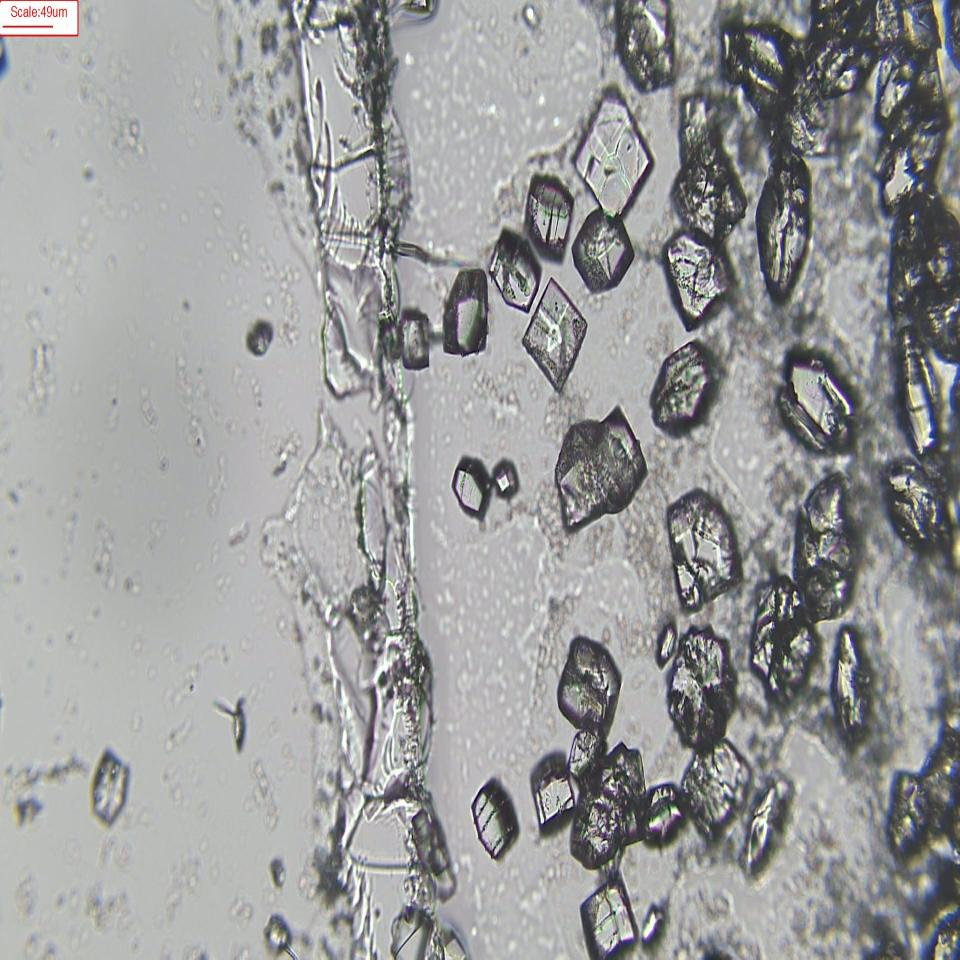crystal: (790, 476, 861, 624), (574, 91, 655, 220), (554, 405, 639, 527), (880, 447, 958, 570), (671, 485, 745, 611), (664, 626, 739, 747), (753, 154, 811, 304), (749, 574, 814, 698), (779, 356, 855, 462), (520, 270, 586, 387), (664, 229, 733, 322), (553, 635, 624, 723), (568, 210, 636, 291), (652, 341, 715, 427), (577, 878, 639, 960), (440, 265, 491, 360), (524, 170, 574, 264), (831, 617, 867, 746), (526, 746, 576, 836), (488, 224, 538, 308), (743, 782, 783, 885), (468, 777, 516, 859), (88, 756, 133, 821), (393, 306, 434, 372), (451, 454, 488, 516), (263, 900, 295, 960), (228, 682, 251, 758), (491, 448, 520, 502), (244, 317, 276, 363), (653, 617, 679, 665), (641, 903, 668, 948)
not_crystal: (871, 7, 950, 182), (896, 201, 960, 348)
